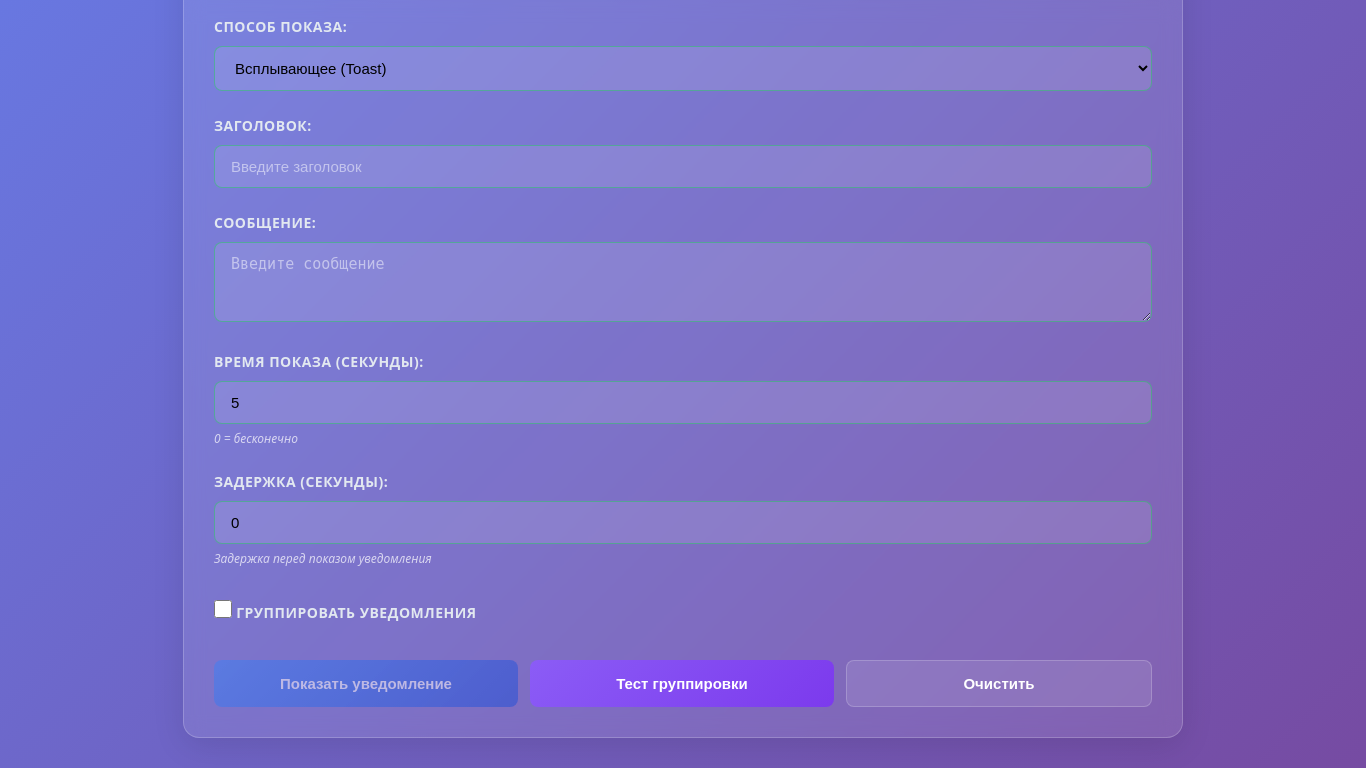
Test: Система Уведомлений - E2E Тесты › Задержки перед показом › должен показывать toast уведомление с задержкой 2 секунды
(page scrolled)
Replace the text in the number field with test id "delay-input" with "2": (683, 523) [214,501,1152,544]
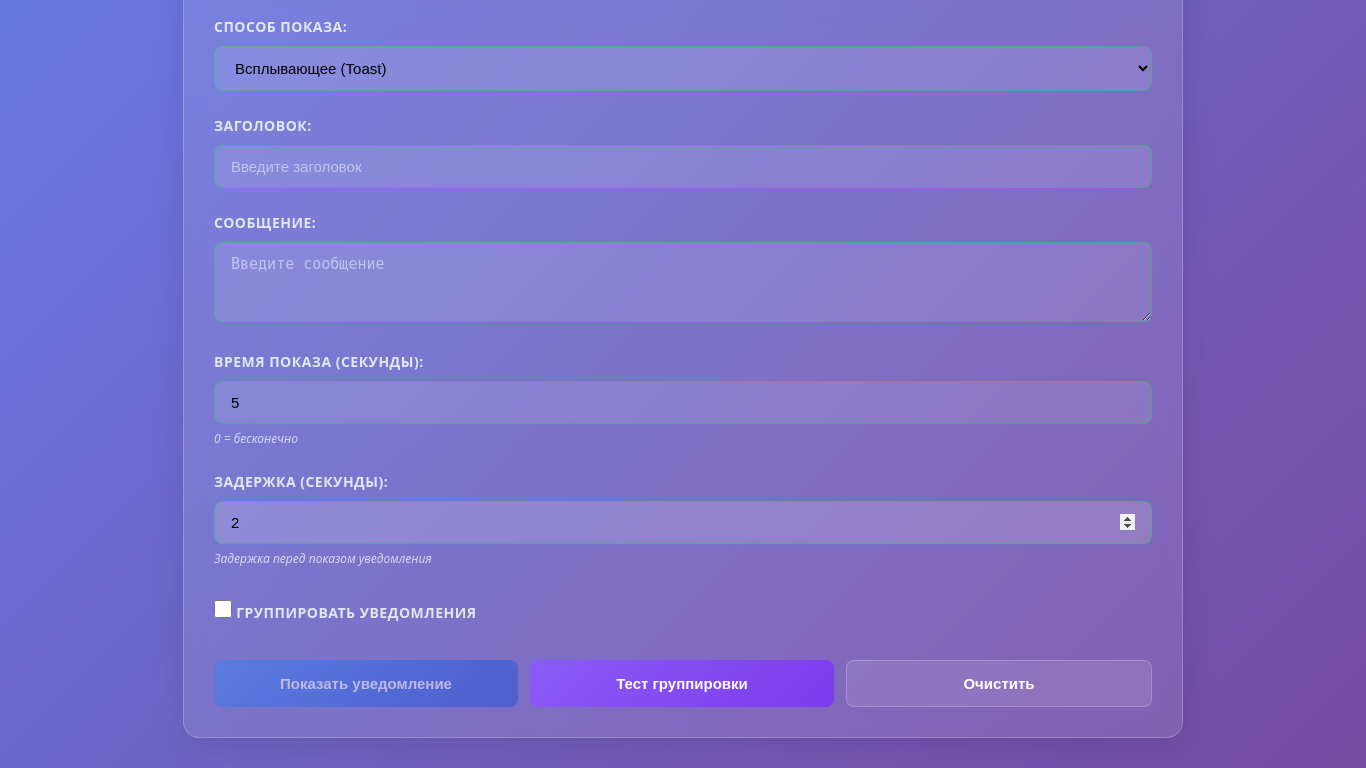
Scroll
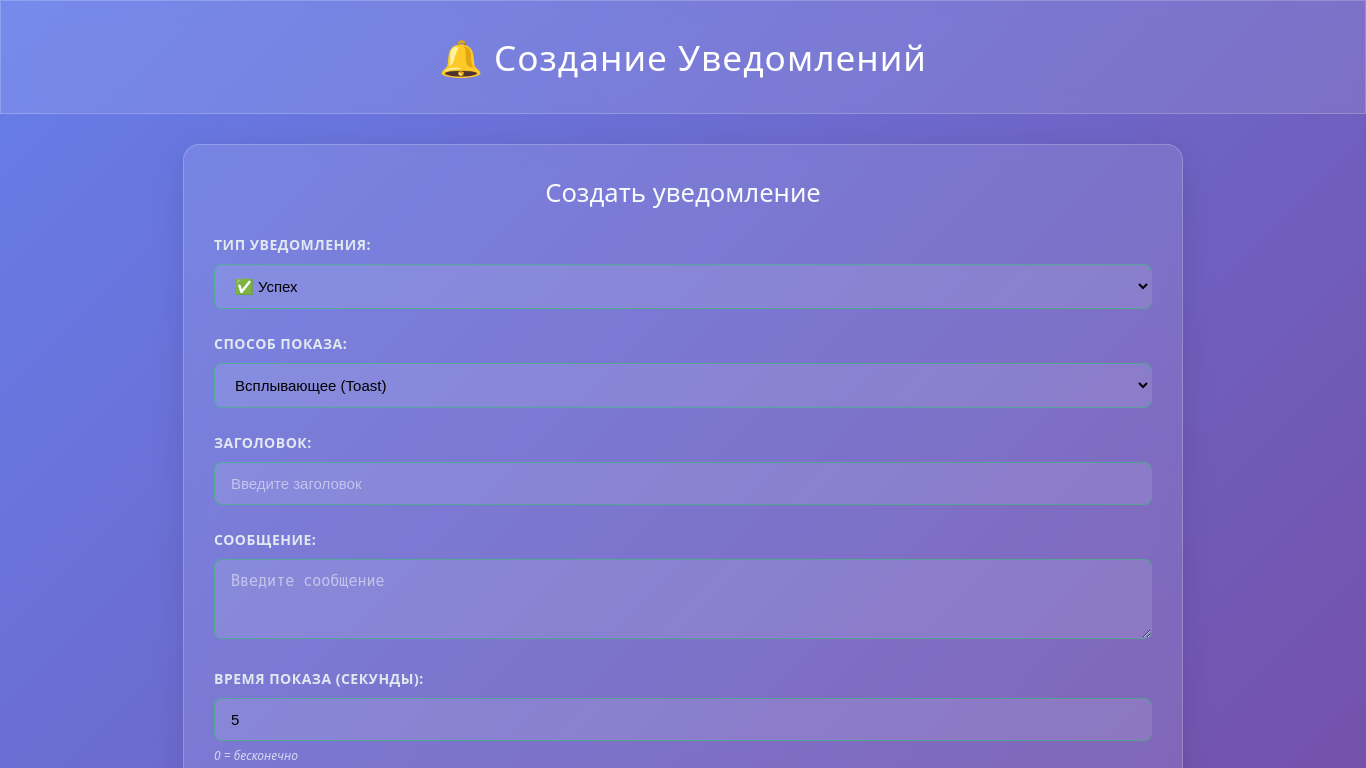
Select "✅ Успех" in the dropdown with test id "type-select": (683, 287) [214,264,1152,309]
In the field with test id "title-input": (683, 484) [214,462,1152,505], type "Уведомление с задержкой"
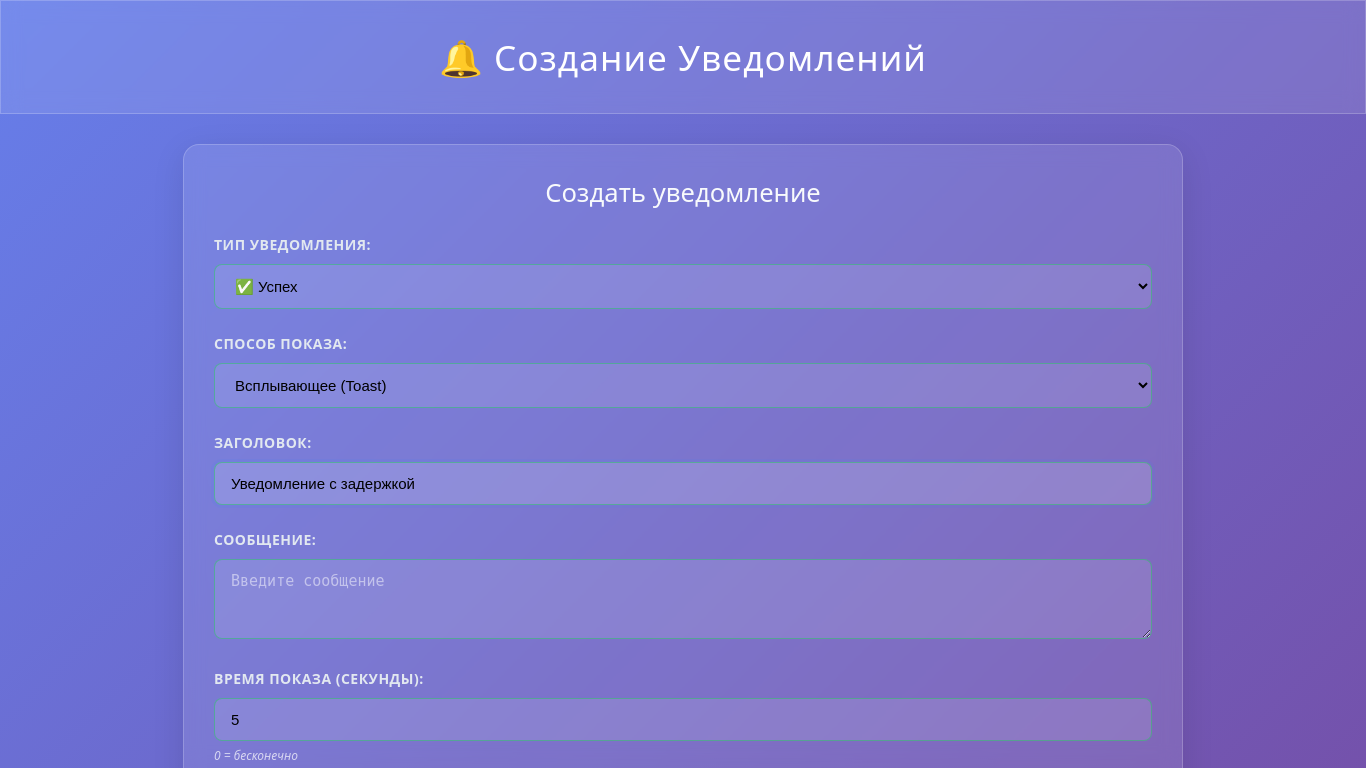
In the text box with test id "message-textarea": (683, 599) [214,559,1152,639], type "Должно появиться через 2 секунды"
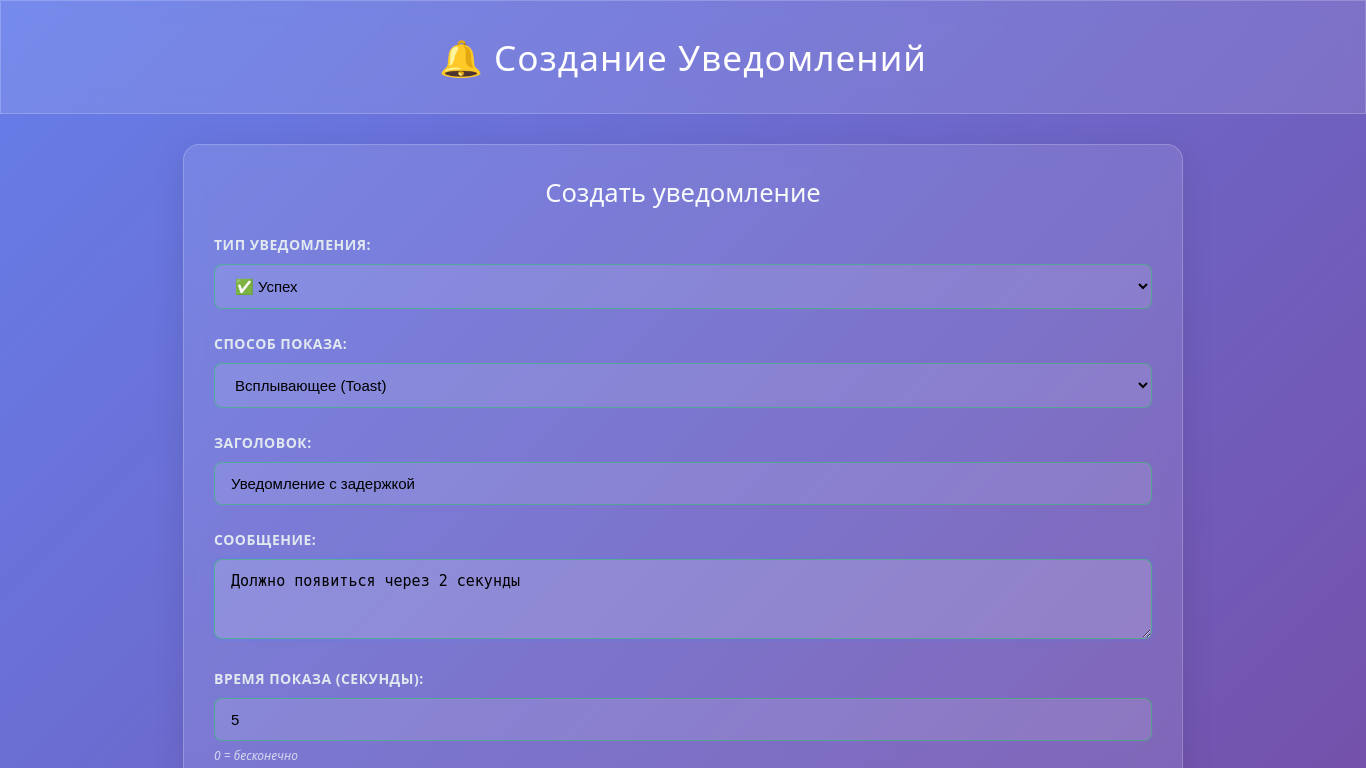
Scroll
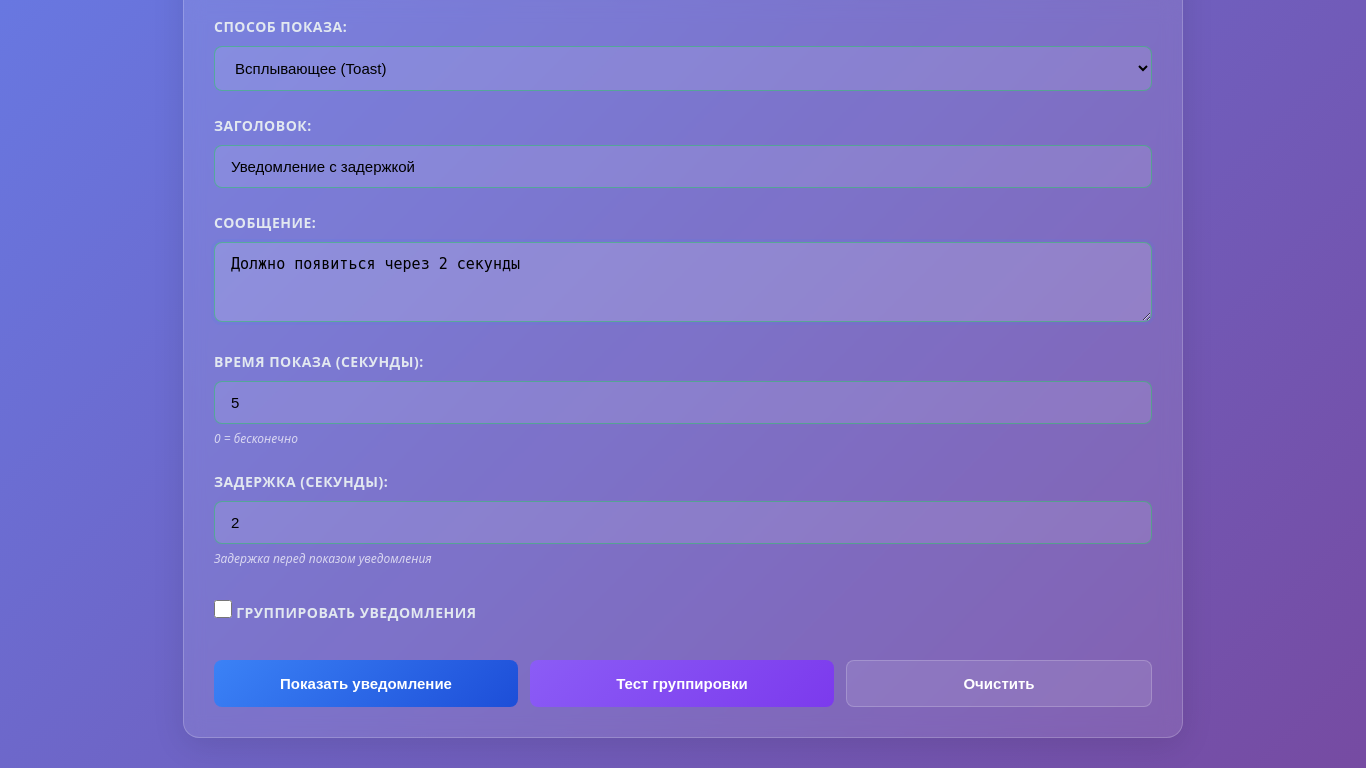
Click the button with test id "submit-button": (366, 684) [214,660,518,707]
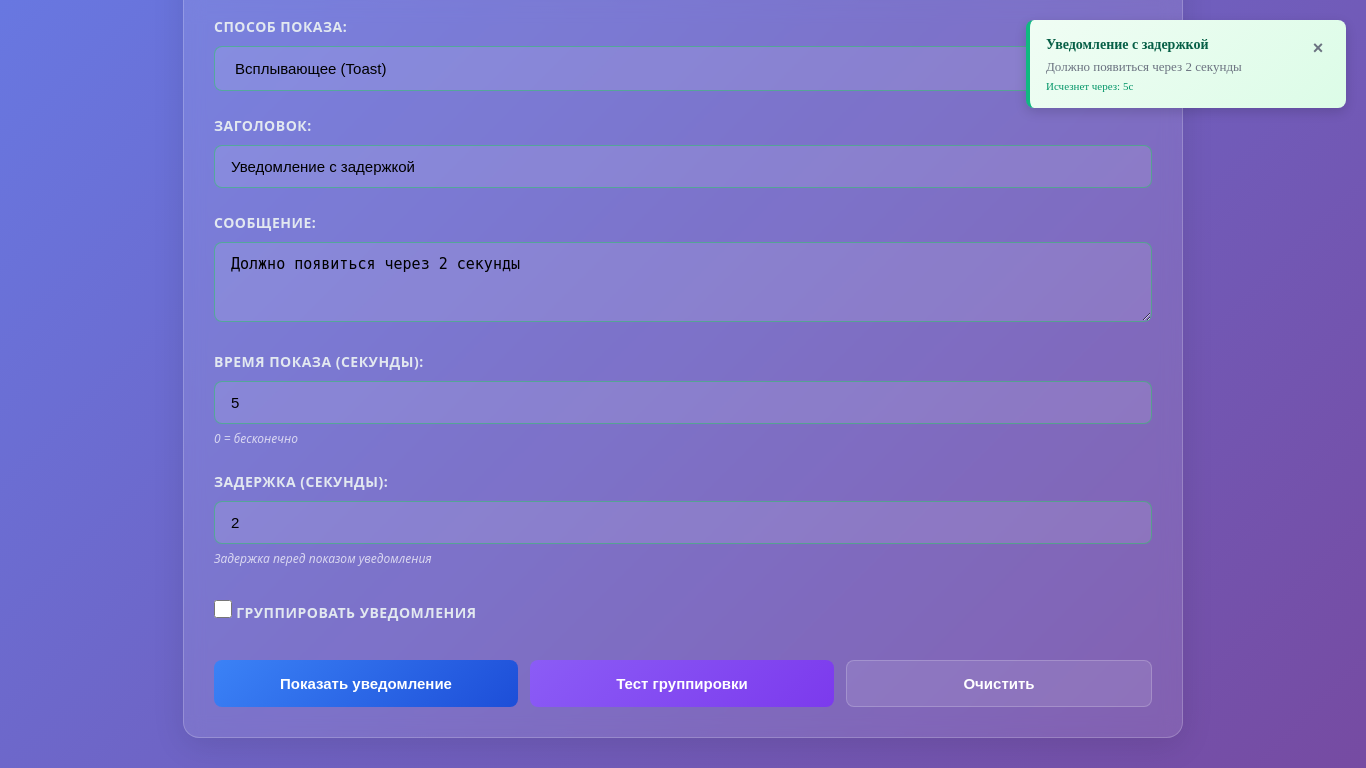
expect the element with test id "toast-notification-item" is shown: met, box [1026,20,1346,108]
expect the text with test id "toast-notification-item" reads "Уведомление с задержкой": met, box [1046,37,1209,52]
